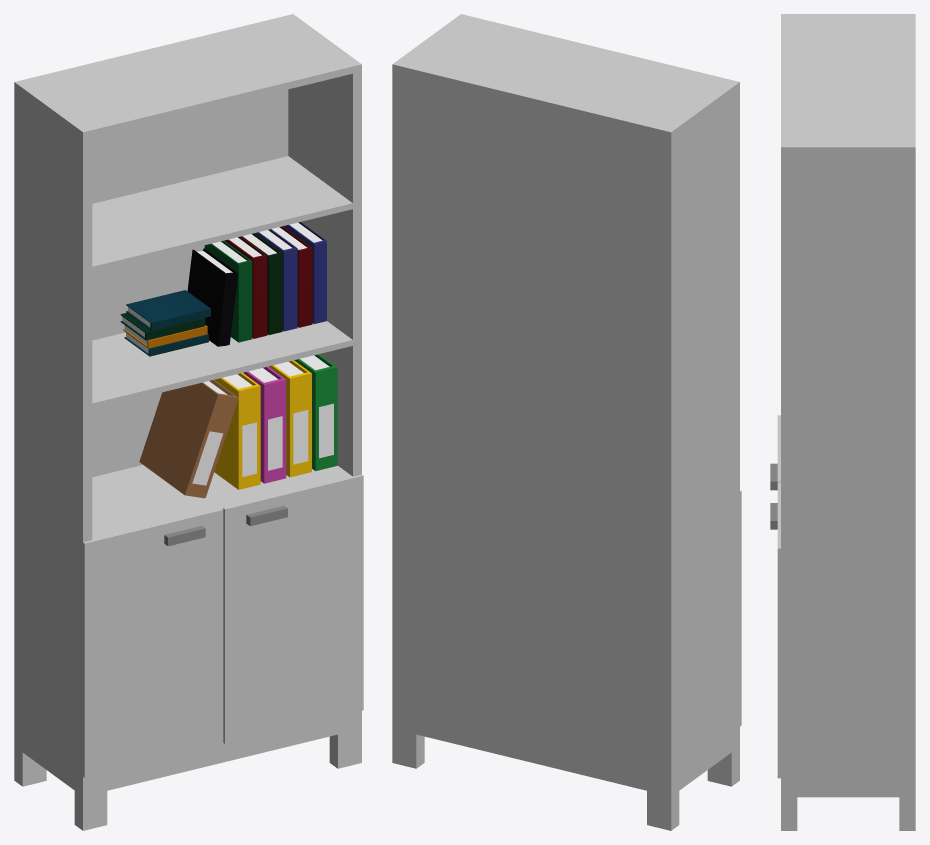
File: Bookshelf.fbx
3 views of the same model, side by side, from view 1: azimuth 30°, elevation 25°; view 2: azimuth 150°, elevation 25°; view 3: azimuth 270°, elevation 25° (orthographic). The views are drawn at different scales.
Visible parts, largest first — view 1: Bookshelf, BookGroup3, BookGroup1, BookGroup2, BookGroup4; view 2: Bookshelf; view 3: Bookshelf.
Part boxes in pixels (x1,y1,x2,y2): Bookshelf: (14, 14, 363, 830); BookGroup3: (187, 222, 326, 346); BookGroup1: (214, 354, 337, 489); BookGroup2: (139, 380, 238, 498); BookGroup4: (120, 290, 210, 356); Bookshelf: (392, 14, 741, 830); Bookshelf: (770, 14, 915, 830).
Bounding box in the file's own units: 225 × 539 × 104.
Materials: 5 (5 with a texture image).
